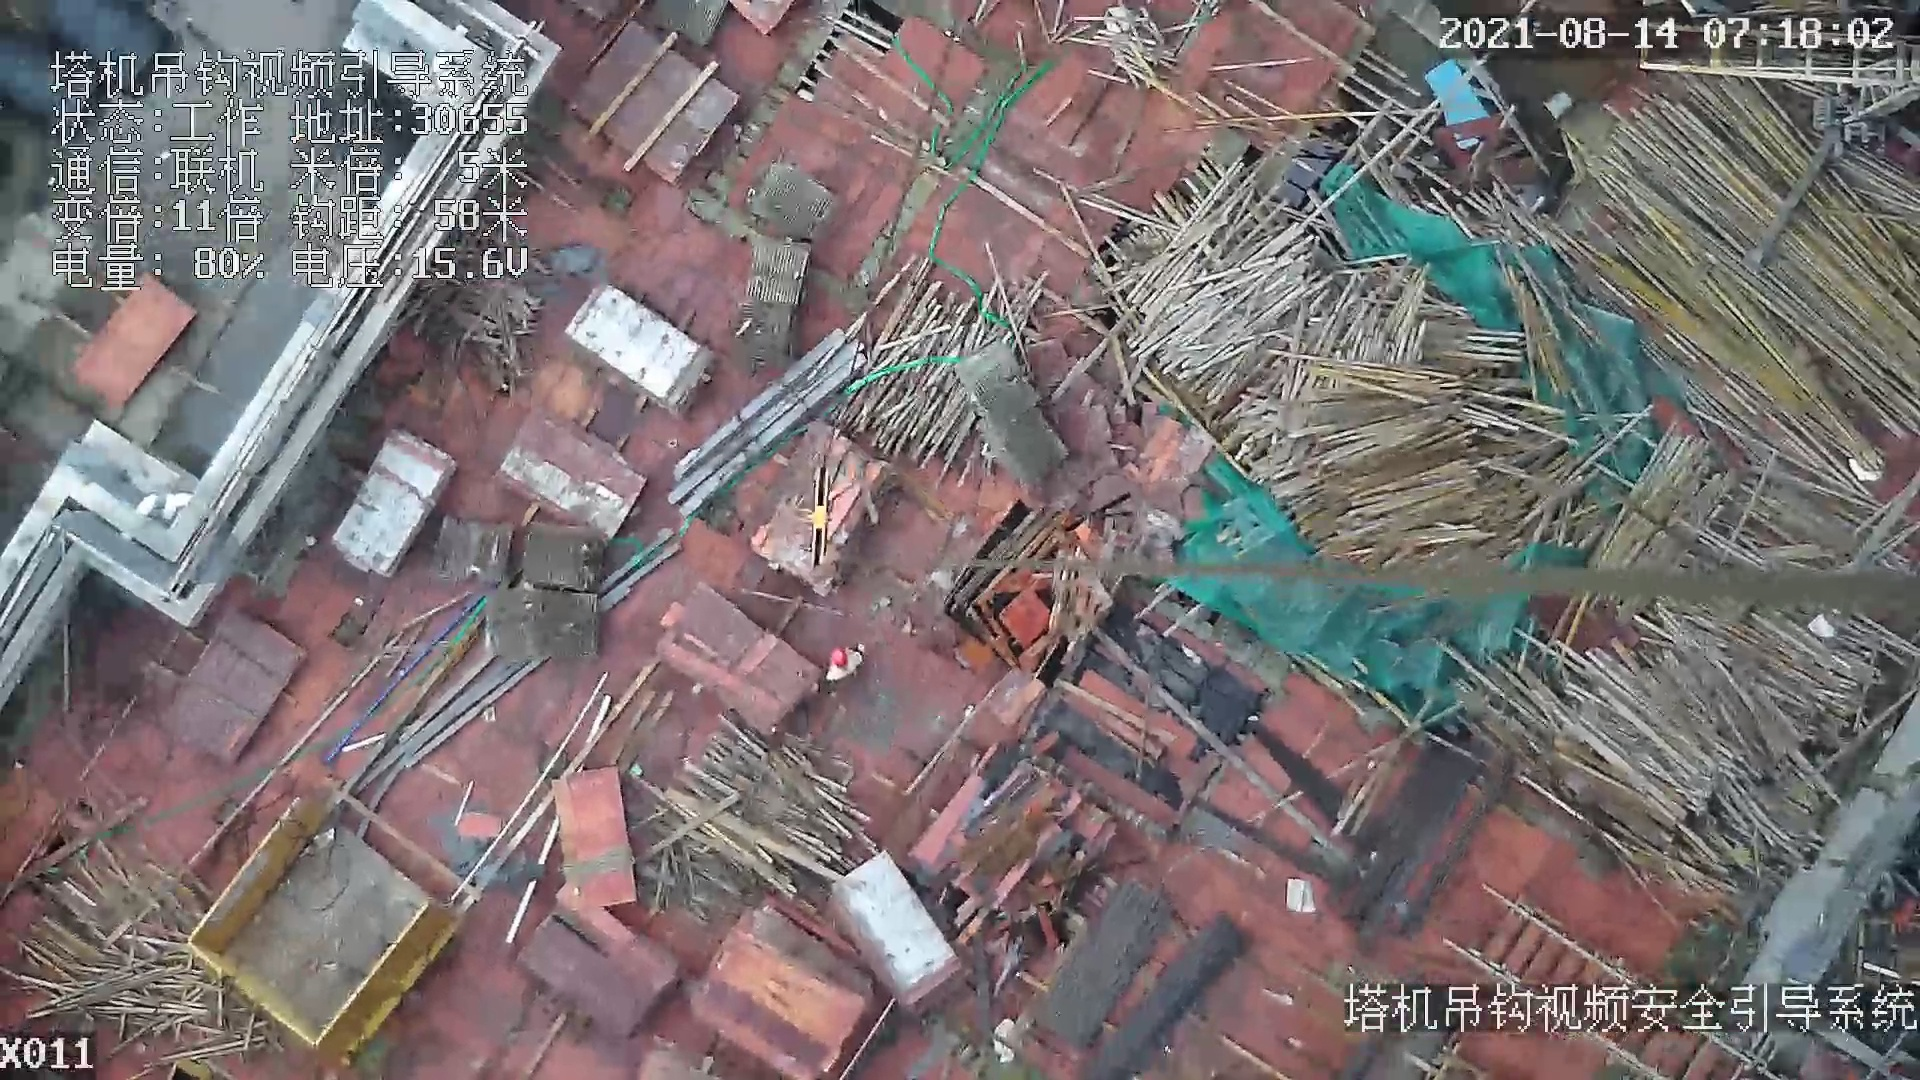helmet: (825, 646, 845, 668)
hook: (786, 460, 840, 574)
person: (812, 649, 882, 689)
